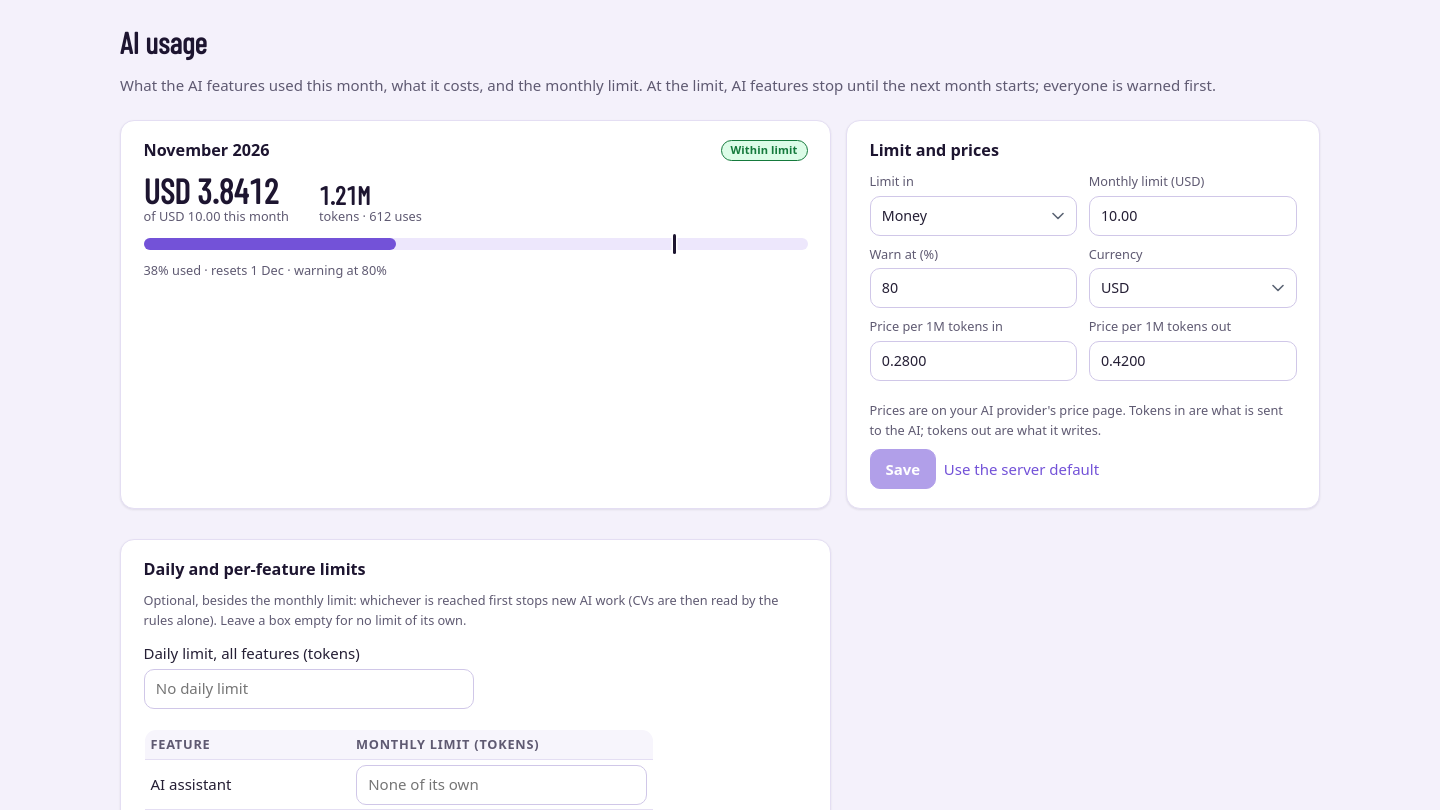
Scenario: Settings › AI usage › sets a daily limit and a feature's own, keeping the month's settings as they are
The width and height of the screenshot is (1440, 810).
Step 1. Type "200,000" into the field labelled "Daily limit, all features (tokens)" → coordinates (308, 689), box [144,669,474,709]
(page scrolled)
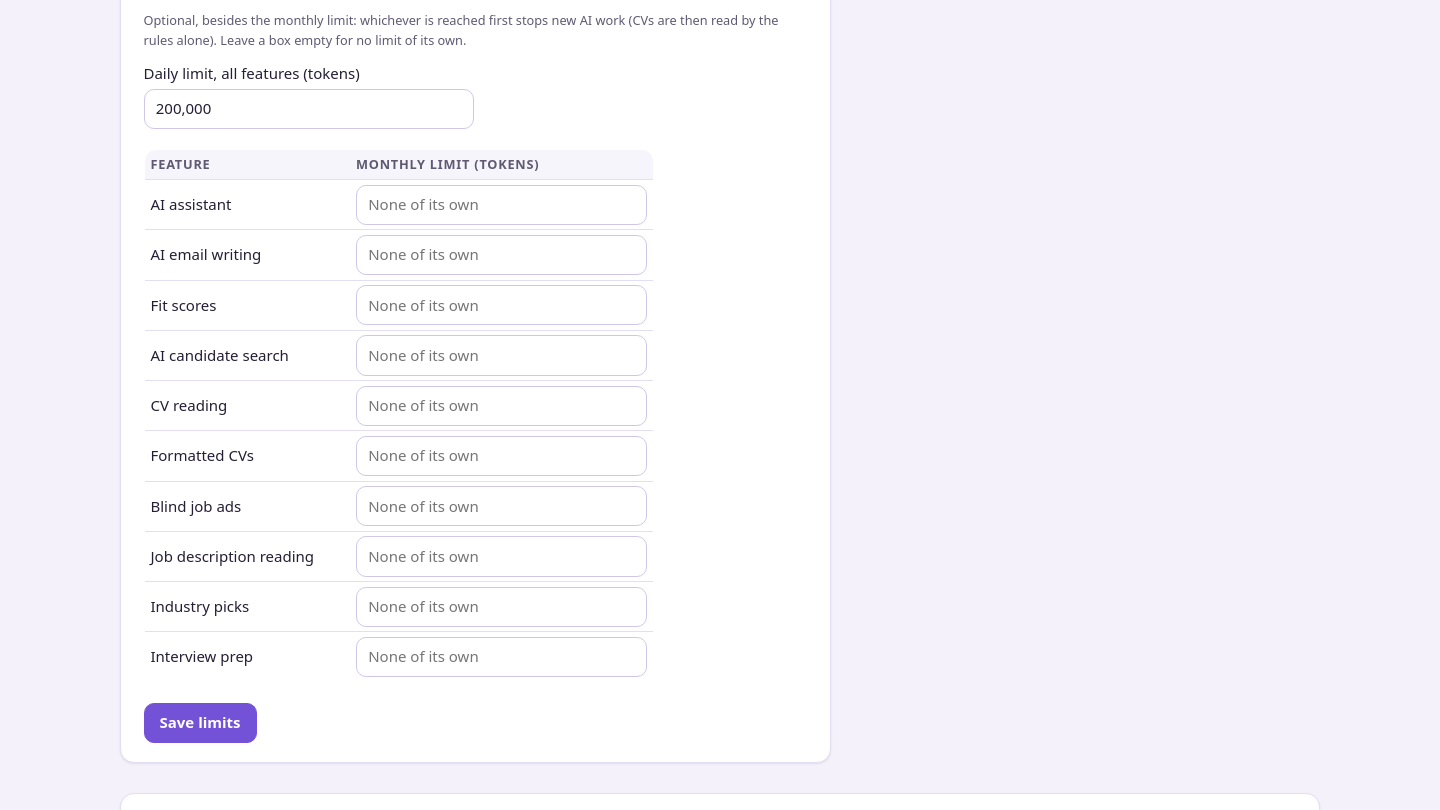
Step 2. Type "50000" into the field named "CV reading: monthly limit in tokens" → coordinates (501, 406), box [356,386,646,426]
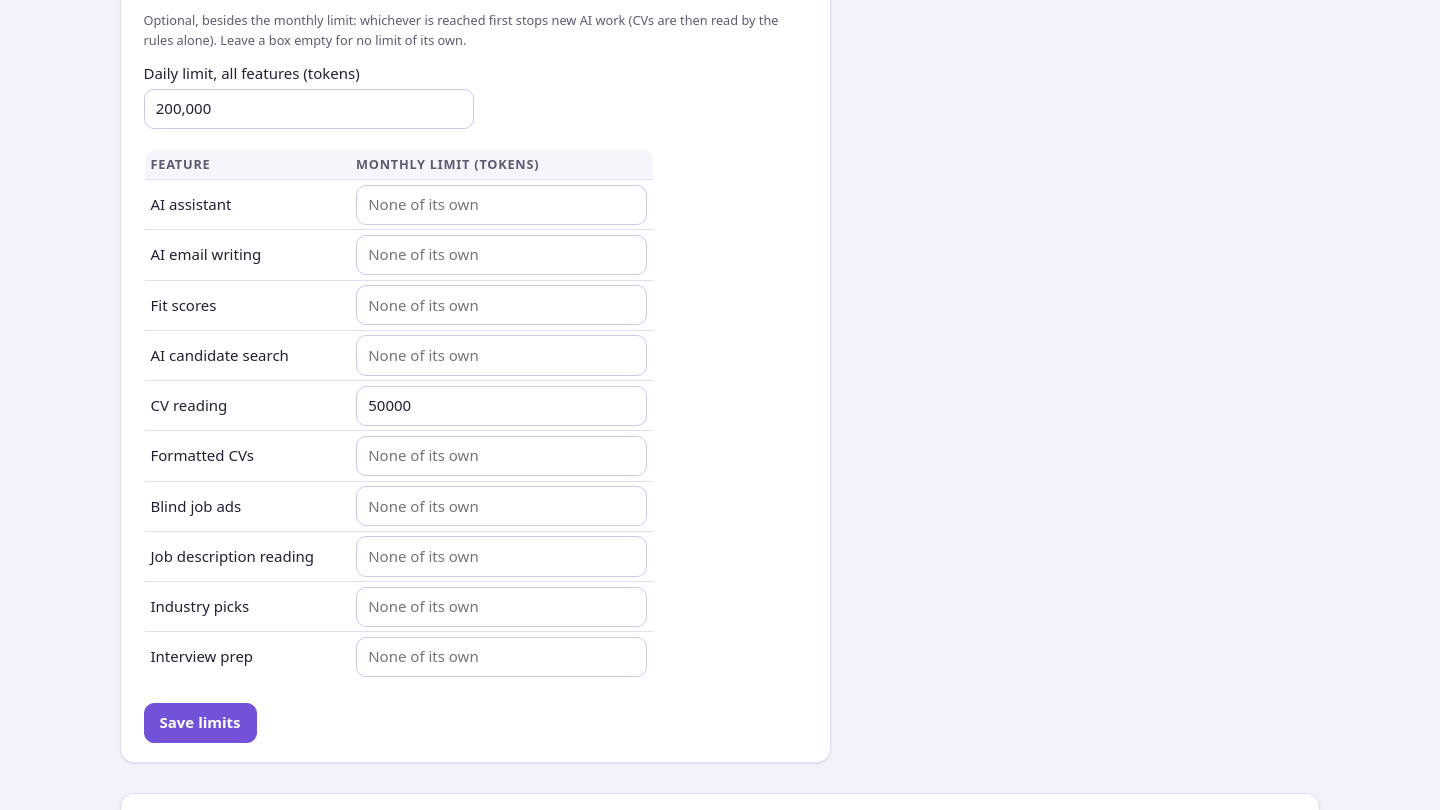
Step 3. Click the button "Save limits" → coordinates (200, 723), box [144,703,256,743]
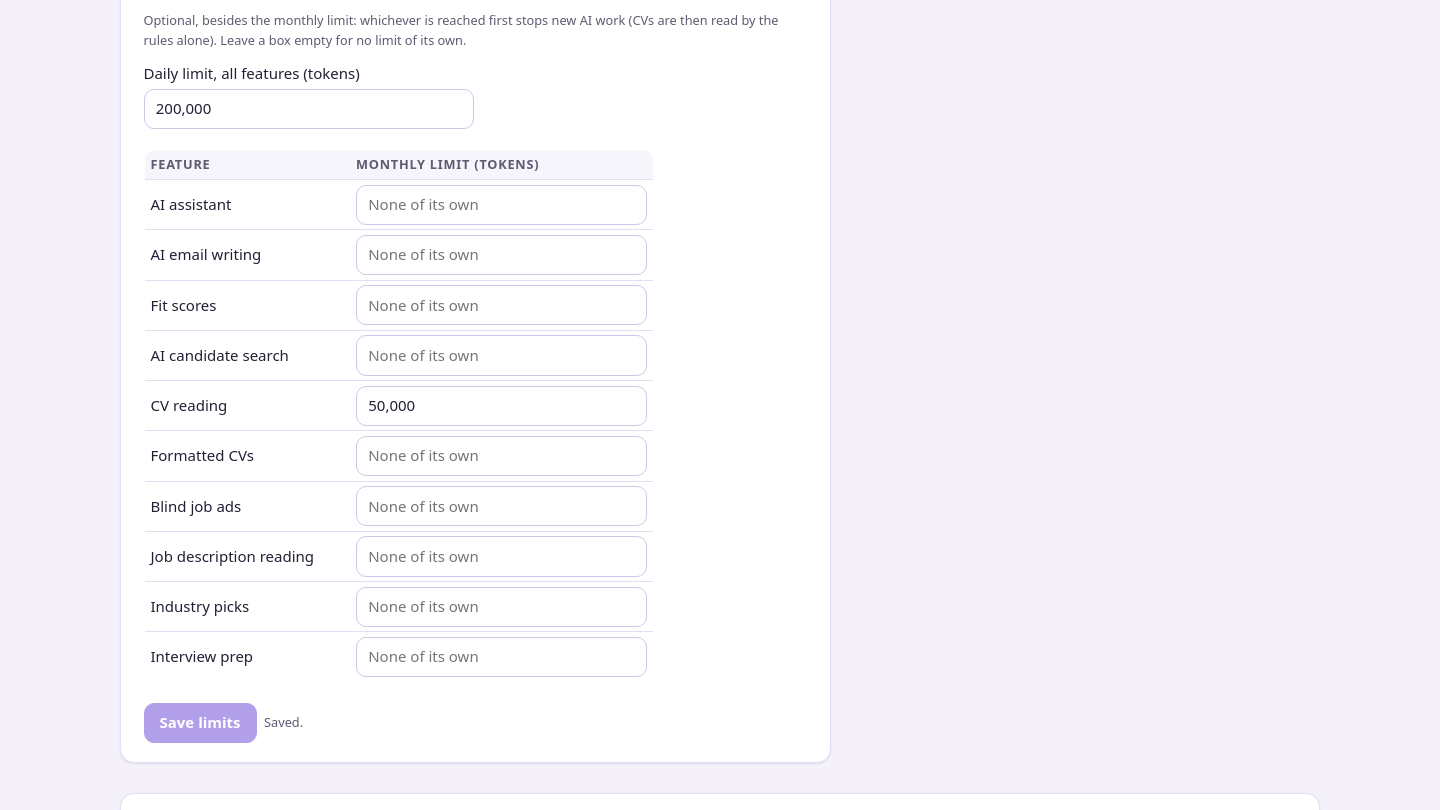
Now the text "Saved." is shown, box [264,713,303,733]
Now the field named "CV reading: monthly limit in tokens" holds "50,000", box [356,386,646,426]
